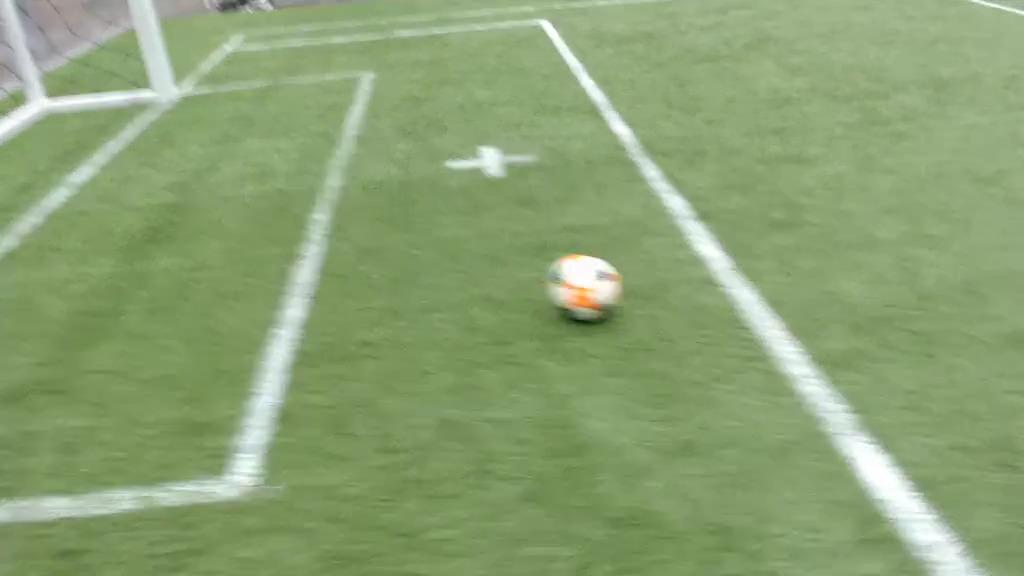ball: (546, 254, 623, 325)
